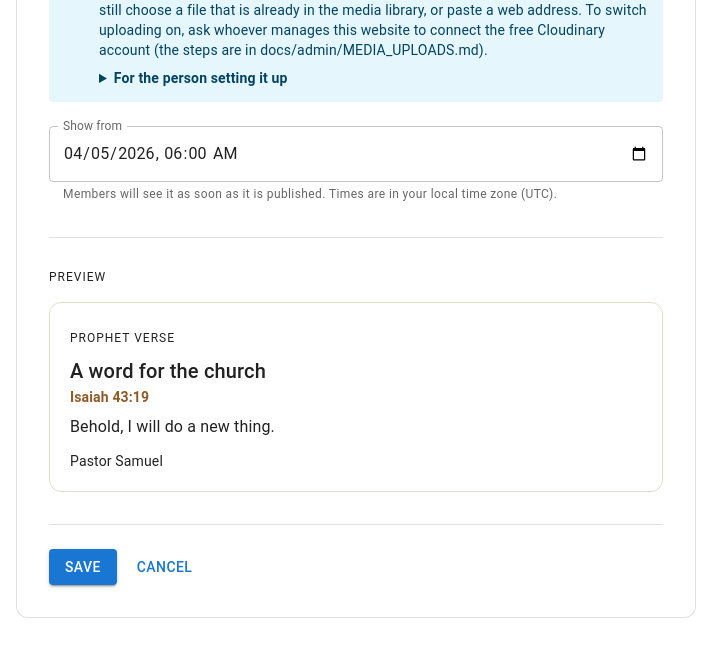
Test case: creating › still refuses to save a stored address the phone could not load
(page scrolled)
Click the button with test id "prophet-verse-form-submit".
click(83, 567)  # box x1=49 y1=549 x2=117 y2=585
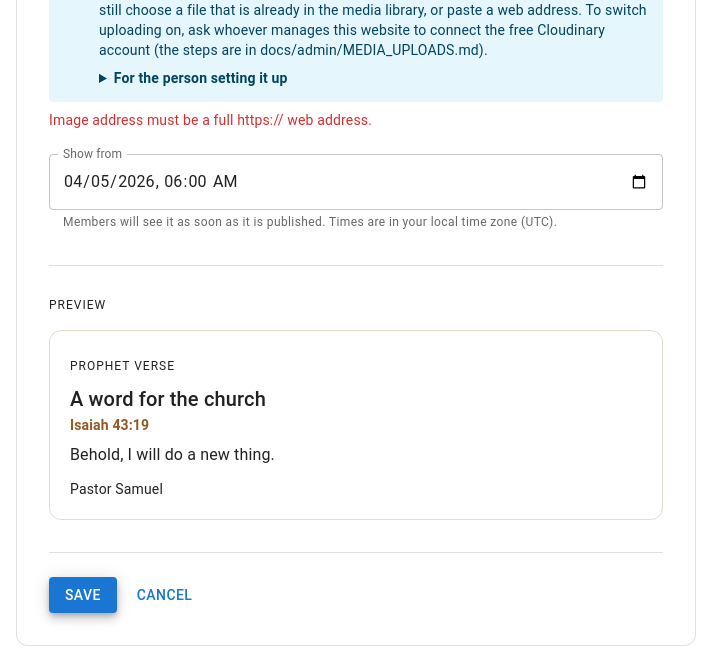
Expected: the text "Image address must be a full https:// web address." is shown, x1=49 y1=112 x2=372 y2=128
